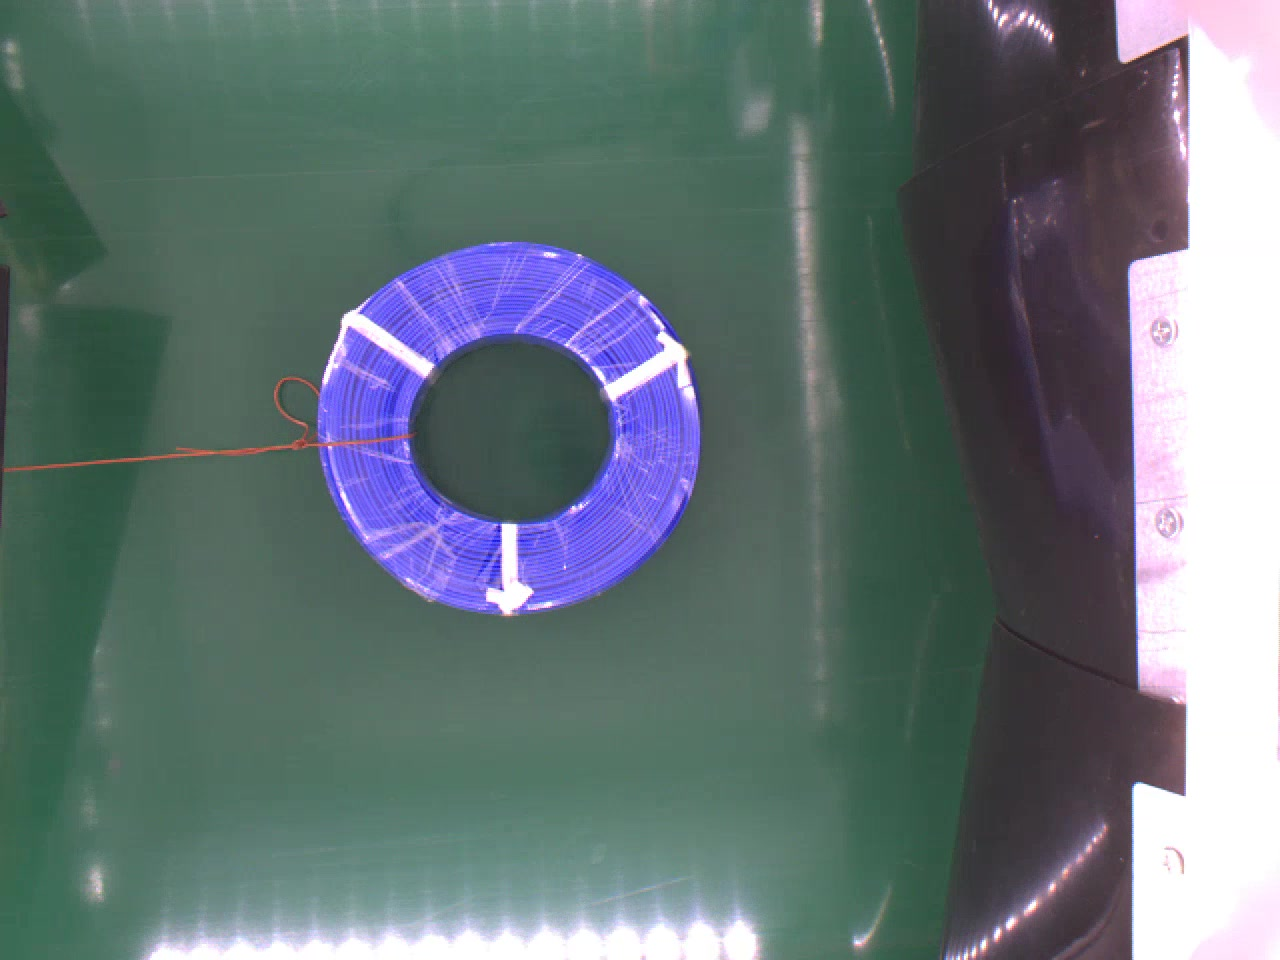blue: (311, 237, 700, 616)
